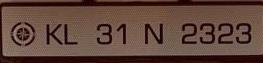character: (143, 22, 164, 44), (44, 22, 63, 46), (95, 22, 113, 44), (199, 21, 215, 45), (62, 23, 79, 45), (181, 22, 198, 44), (235, 22, 252, 44), (217, 23, 233, 44), (116, 22, 127, 45)
